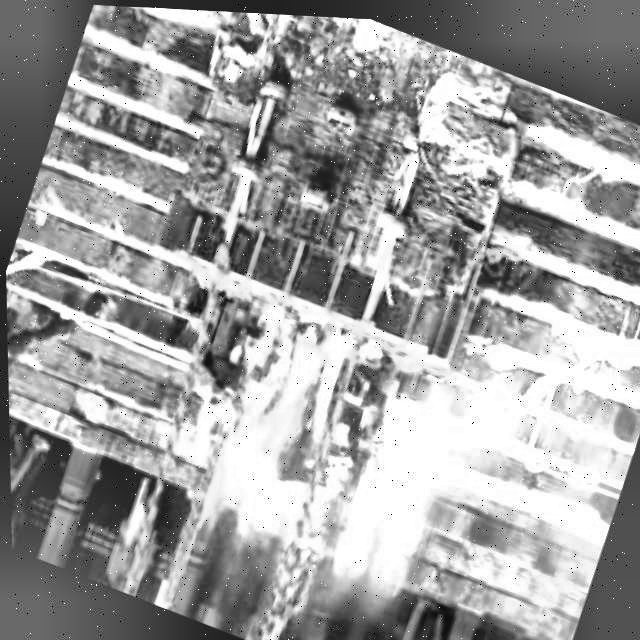Fire: (183, 294, 361, 551)
